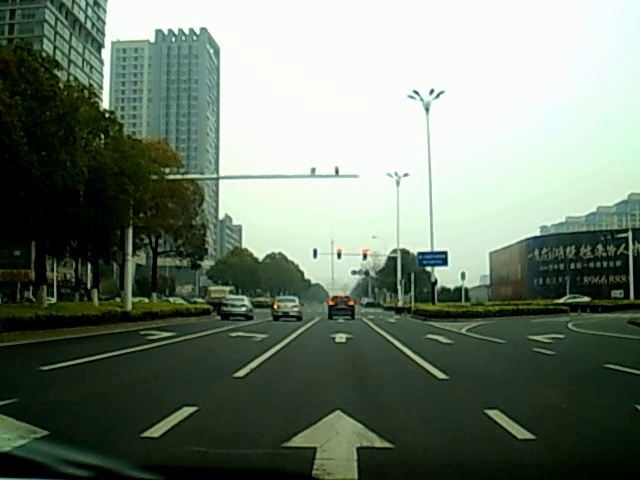Traffic_Light_stop: (361, 247, 369, 264), (335, 248, 342, 260)
